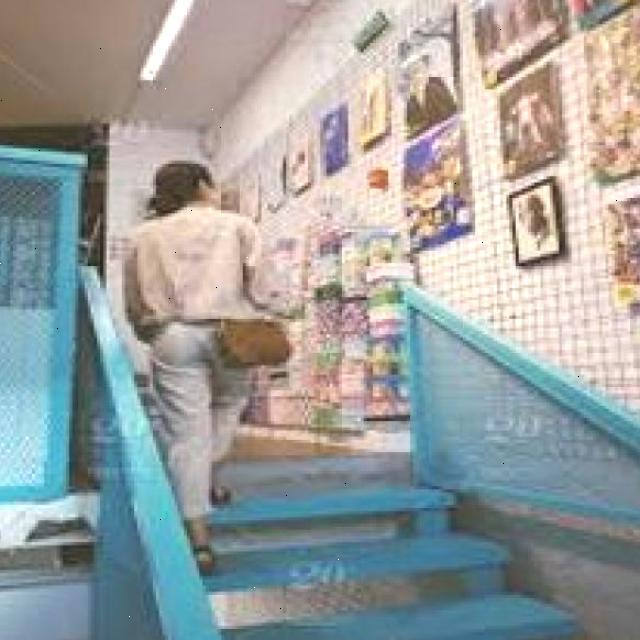stair: (166, 481, 556, 632)
